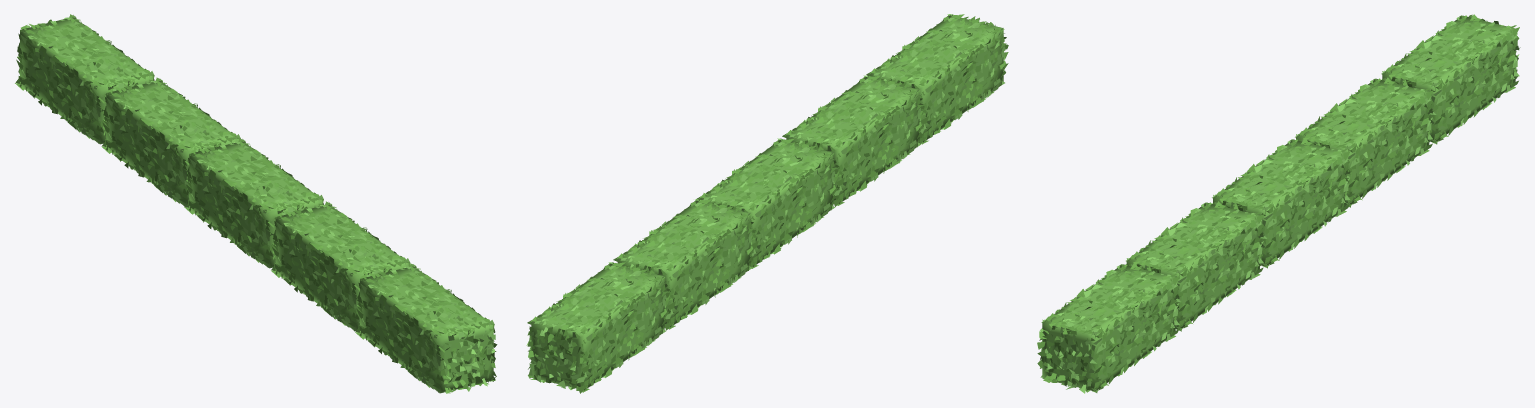
The model's file is BUSH13.fbx.
3 renders of one model, left to right at view 1: azimuth 30°, elevation 25°; view 2: azimuth 150°, elevation 25°; view 3: azimuth 330°, elevation 25°, orthographic.
Parts seen in each view (by area): view 1: Cube.602; view 2: Cube.602; view 3: Cube.602.
Boxes of the visible parts, box(x1,y1,x2,y2) form: Cube.602: box(15, 14, 497, 393); Cube.602: box(526, 14, 1008, 393); Cube.602: box(1037, 14, 1520, 393).
Size of the model in its own units: 1474 by 1469 by 18420.
